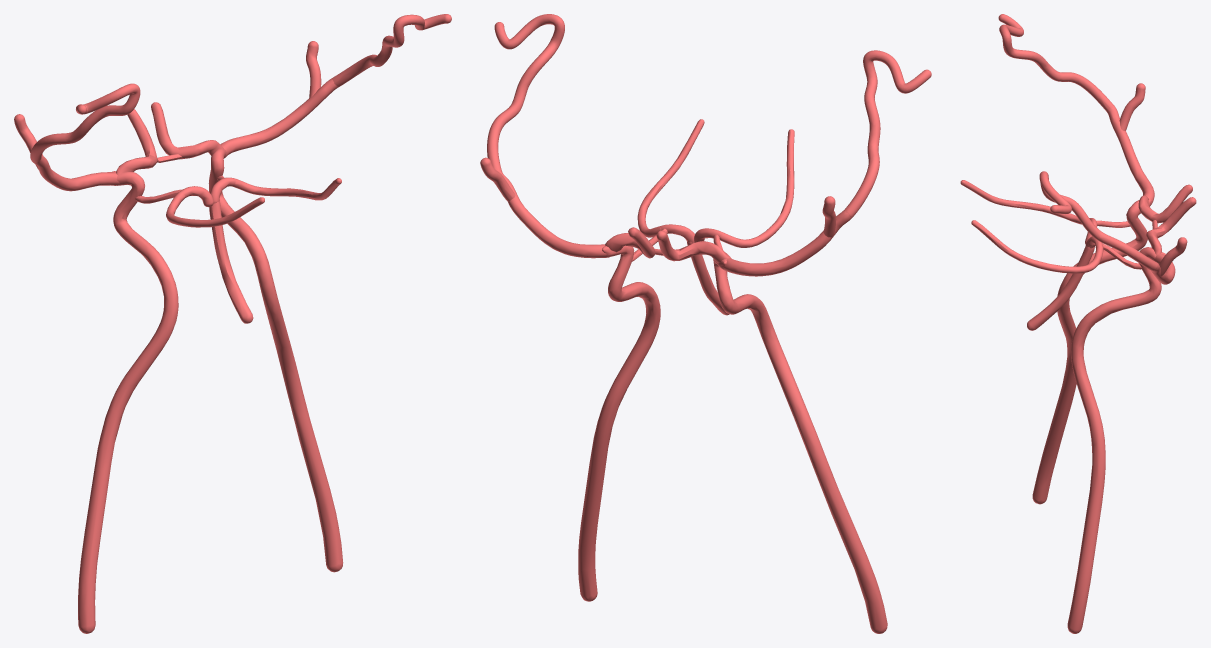
File: central-arteries.glb
3 renders of one model, left to right at view 1: azimuth 30°, elevation 25°; view 2: azimuth 150°, elevation 25°; view 3: azimuth 270°, elevation 25°, orthographic. The views are drawn at different scales.
Parts seen in each view (by area): view 1: BP3D_FJ1682M, BP3D_FJ1682, BP3D_FJ1694M, BP3D_FJ1694, BP3D_FJ1692, BP3D_FJ1672, BP3D_FJ1692M, BP3D_FJ1654, BP3D_FJ1714M, BP3D_FJ1654M, BP3D_FJ1714, BP3D_FJ1660; view 2: BP3D_FJ1682M, BP3D_FJ1682, BP3D_FJ1694M, BP3D_FJ1694, BP3D_FJ1692M, BP3D_FJ1692, BP3D_FJ1714M, BP3D_FJ1714, BP3D_FJ1654M, BP3D_FJ1654, BP3D_FJ1672; view 3: BP3D_FJ1682, BP3D_FJ1682M, BP3D_FJ1694M, BP3D_FJ1694, BP3D_FJ1714, BP3D_FJ1692M, BP3D_FJ1672, BP3D_FJ1714M, BP3D_FJ1654, BP3D_FJ1654M, BP3D_FJ1660M, BP3D_FJ1660 (+1 smaller).
Part boxes in pixels (bbox=[...]): BP3D_FJ1682M: bbox=[78, 171, 178, 633]; BP3D_FJ1682: bbox=[208, 148, 343, 572]; BP3D_FJ1694M: bbox=[30, 83, 140, 162]; BP3D_FJ1694: bbox=[332, 14, 451, 86]; BP3D_FJ1692: bbox=[220, 78, 338, 158]; BP3D_FJ1672: bbox=[209, 200, 253, 323]; BP3D_FJ1692M: bbox=[32, 155, 119, 191]; BP3D_FJ1654: bbox=[151, 102, 223, 159]; BP3D_FJ1714M: bbox=[166, 191, 264, 227]; BP3D_FJ1654M: bbox=[116, 109, 157, 174]; BP3D_FJ1714: bbox=[232, 178, 341, 200]; BP3D_FJ1660: bbox=[306, 41, 321, 98]; BP3D_FJ1682M: bbox=[713, 252, 887, 633]; BP3D_FJ1682: bbox=[578, 245, 660, 601]; BP3D_FJ1694M: bbox=[844, 50, 931, 217]; BP3D_FJ1694: bbox=[487, 14, 564, 171]; BP3D_FJ1692M: bbox=[723, 210, 851, 276]; BP3D_FJ1692: bbox=[499, 171, 609, 258]; BP3D_FJ1714M: bbox=[719, 129, 794, 247]; BP3D_FJ1714: bbox=[637, 119, 704, 237]; BP3D_FJ1654M: bbox=[656, 230, 729, 263]; BP3D_FJ1654: bbox=[605, 227, 655, 258]; BP3D_FJ1672: bbox=[687, 241, 729, 315]; BP3D_FJ1682: bbox=[1067, 247, 1165, 633]; BP3D_FJ1682M: bbox=[1032, 199, 1151, 504]; BP3D_FJ1694M: bbox=[998, 14, 1114, 111]; BP3D_FJ1694: bbox=[1039, 171, 1157, 270]; BP3D_FJ1714: bbox=[971, 220, 1103, 273]; BP3D_FJ1692M: bbox=[1106, 106, 1154, 205]; BP3D_FJ1672: bbox=[1027, 246, 1094, 330]; BP3D_FJ1714M: bbox=[960, 180, 1091, 224]; BP3D_FJ1654: bbox=[1146, 197, 1196, 254]; BP3D_FJ1654M: bbox=[1138, 184, 1192, 223]; BP3D_FJ1660M: bbox=[1119, 83, 1145, 130]; BP3D_FJ1660: bbox=[1159, 237, 1187, 276].
Size of the model in its own units: 96.56 by 132 by 56.33.
